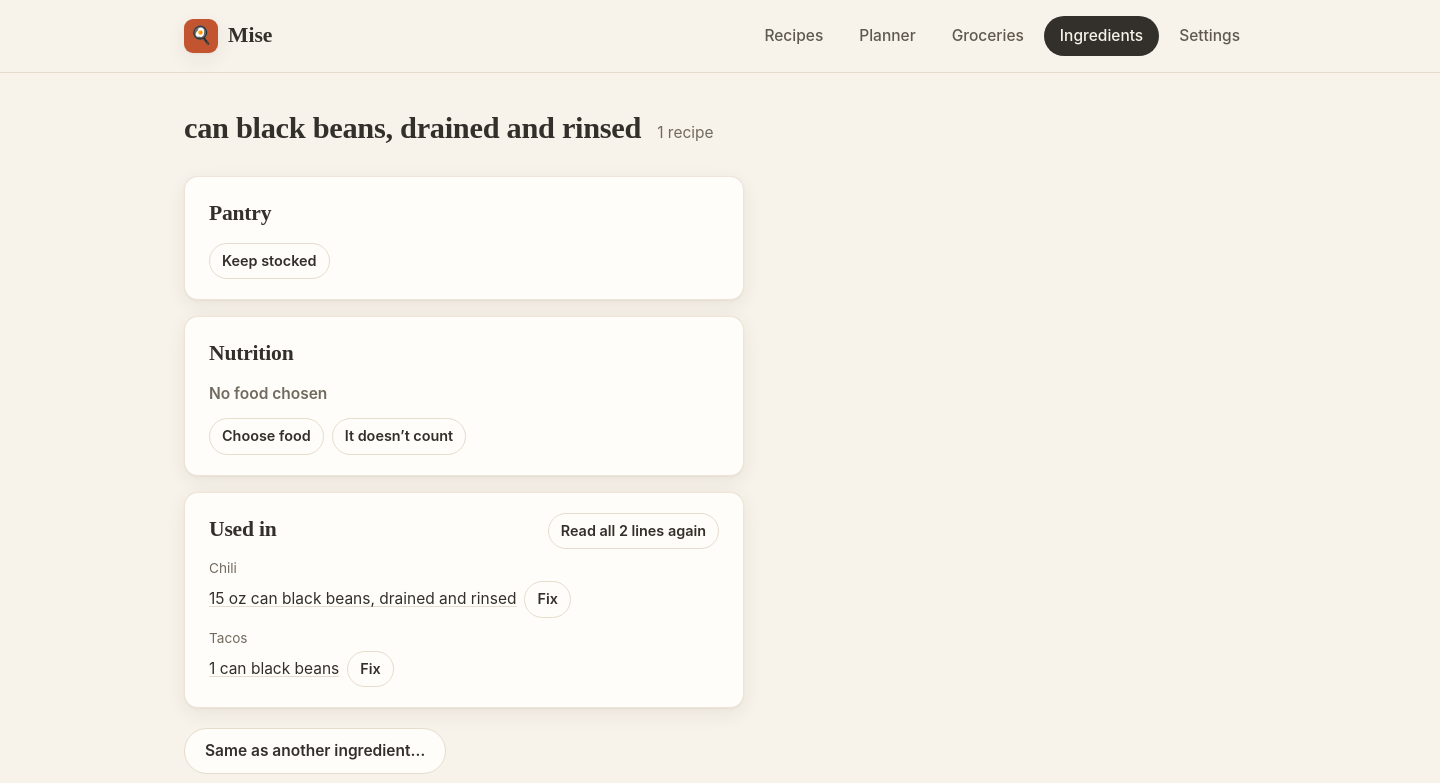
Test: IngredientPage: fixing lines › leaves what was happening on one ingredient behind when following a link to another
Expected: the heading "can black beans, drained and rinsed" is shown, [184,105,641,152]
Click the 1st button "Fix".
click(548, 599)  # box [524,581,571,618]
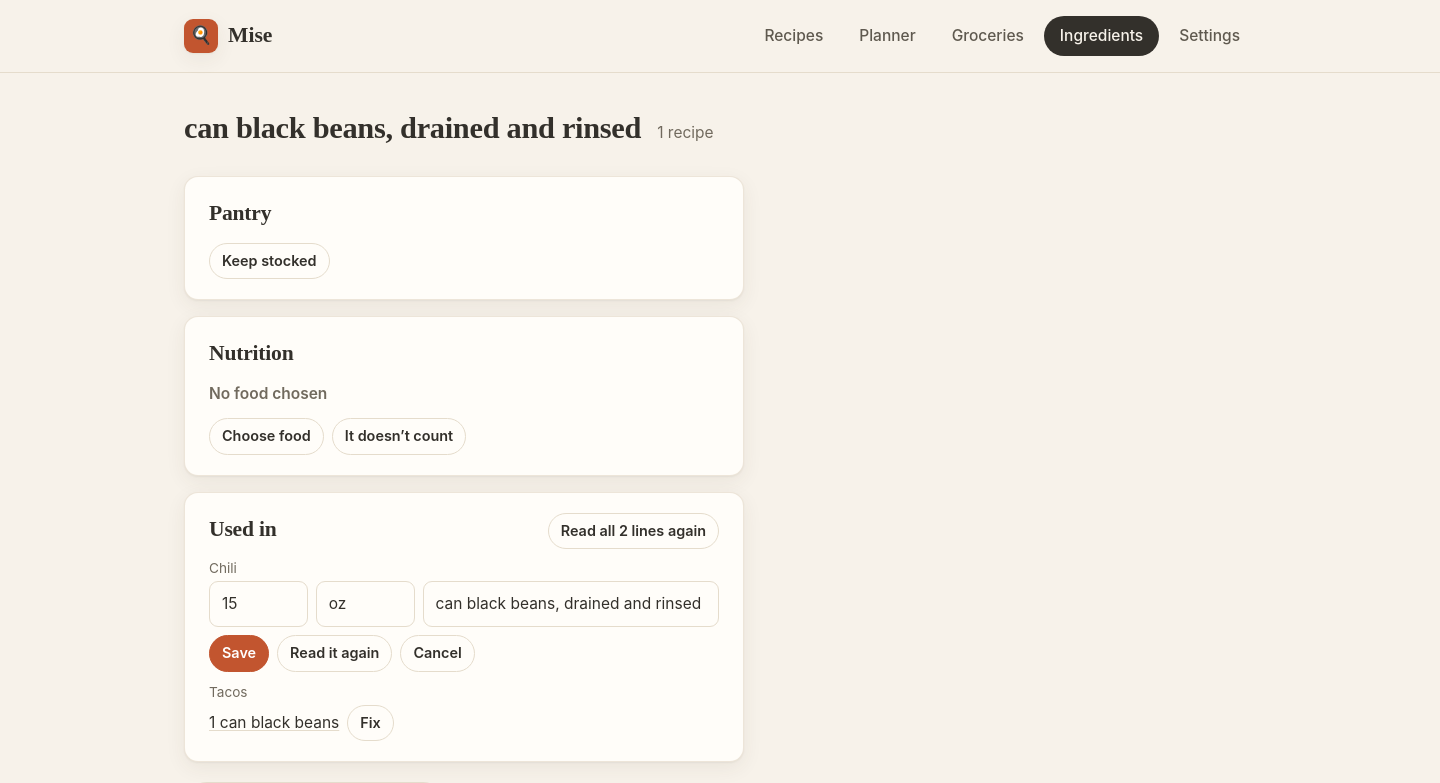
Click the button "Save".
click(239, 653)  # box [209,635,269,672]
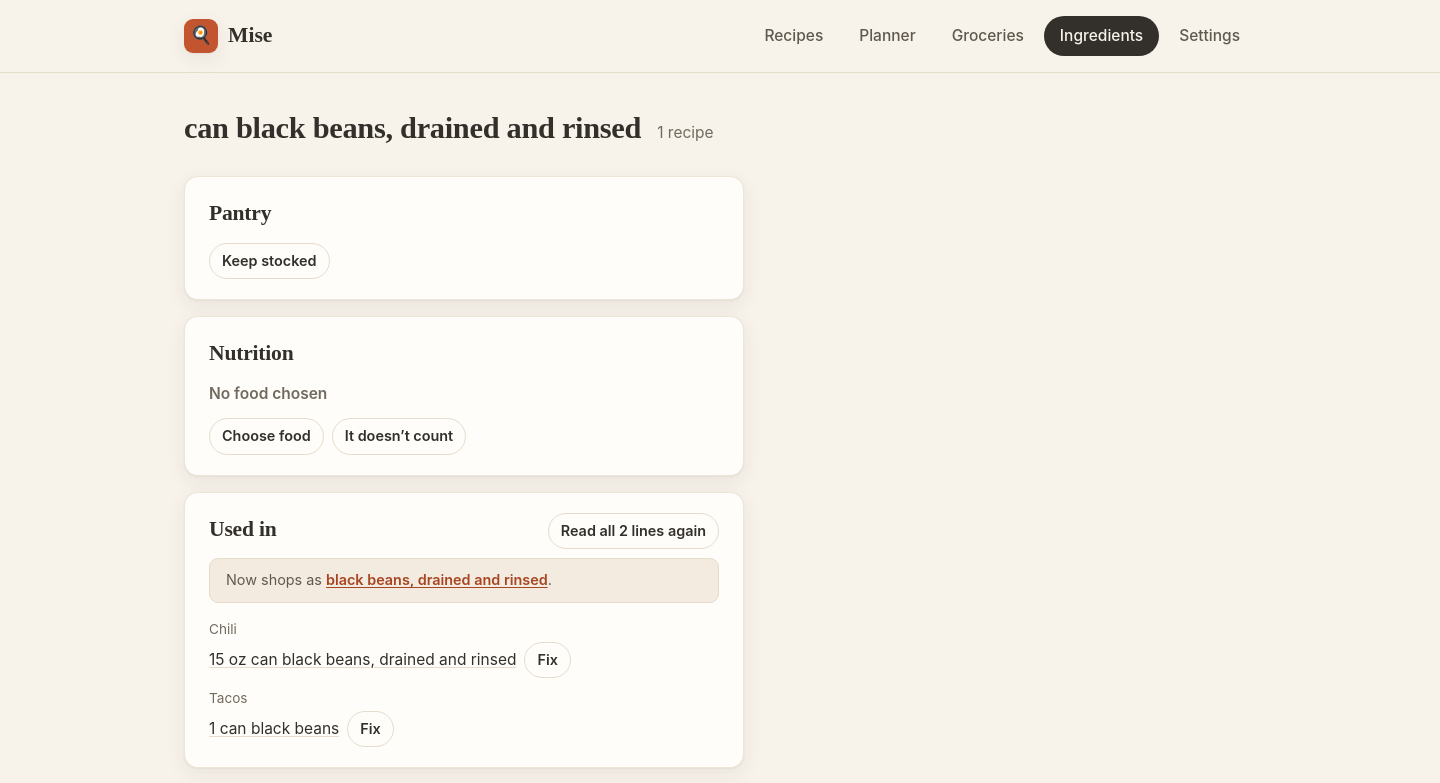
Click the link "black beans, drained and rinsed".
click(437, 580)  # box [326,571,548,588]
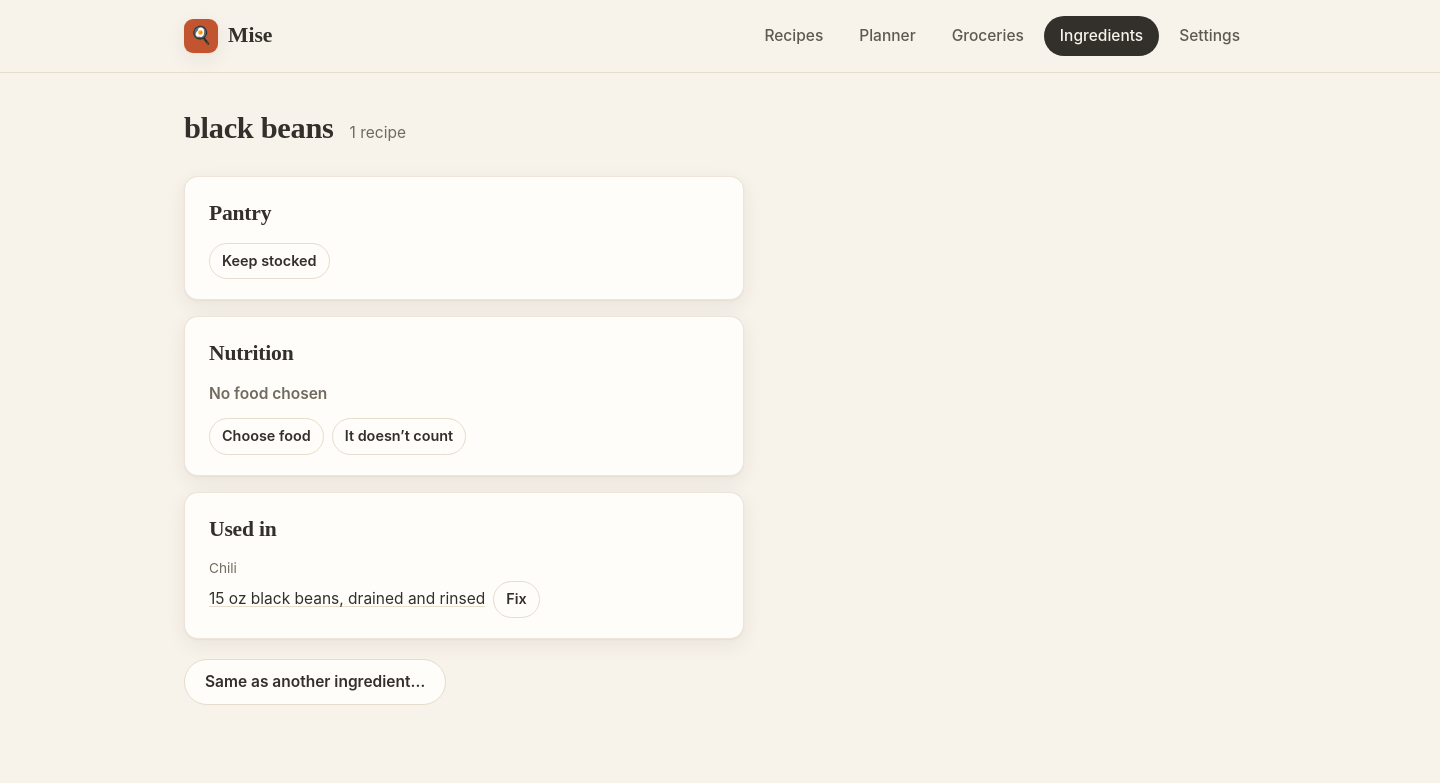
Expected: the heading "black beans" is shown, [184,105,334,152]
Expected: the text "Now shops as" is gone
